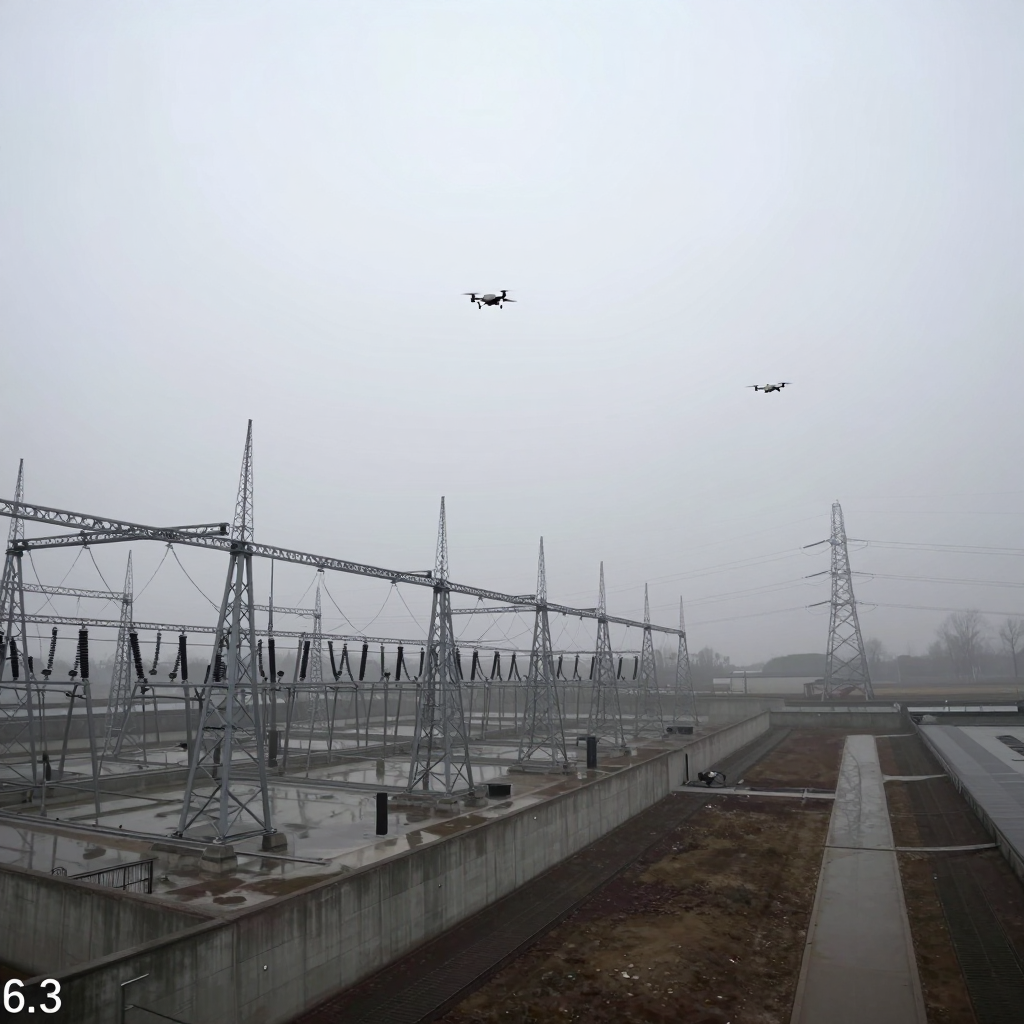drone: (461, 289, 517, 310), (746, 382, 793, 393)
